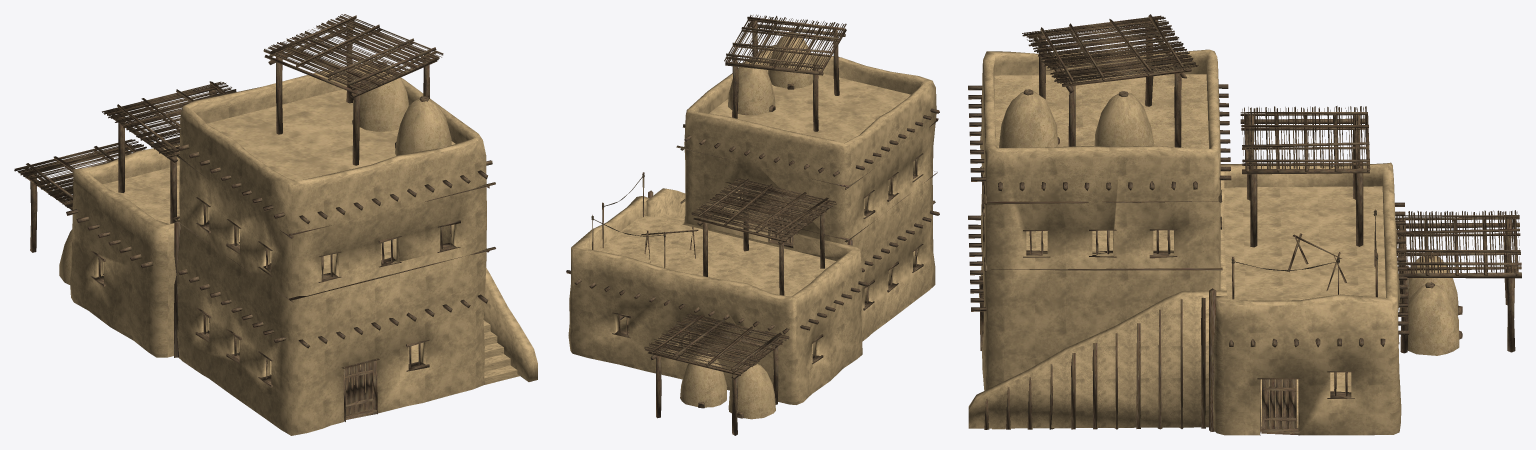
The model's file is adb_house_8.glb.
3 views of the same model, side by side, from view 1: azimuth 30°, elevation 25°; view 2: azimuth 150°, elevation 25°; view 3: azimuth 270°, elevation 25° (orthographic). The views are drawn at different scales.
Visible parts, largest first — view 1: adb_house_8; view 2: adb_house_8; view 3: adb_house_8.
Boxes of the visible parts, x1=… form: adb_house_8: x1=14, y1=14, x2=537, y2=435; adb_house_8: x1=566, y1=14, x2=939, y2=435; adb_house_8: x1=968, y1=14, x2=1521, y2=435.
Bounding box in the file's own units: 5.55 × 5.61 × 8.61.
Materials: 3 (3 with a texture image).
